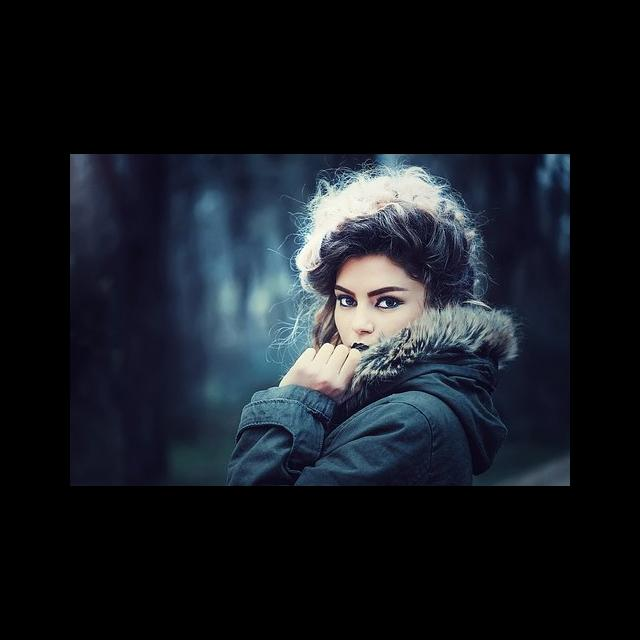female: (275, 169, 496, 358)
